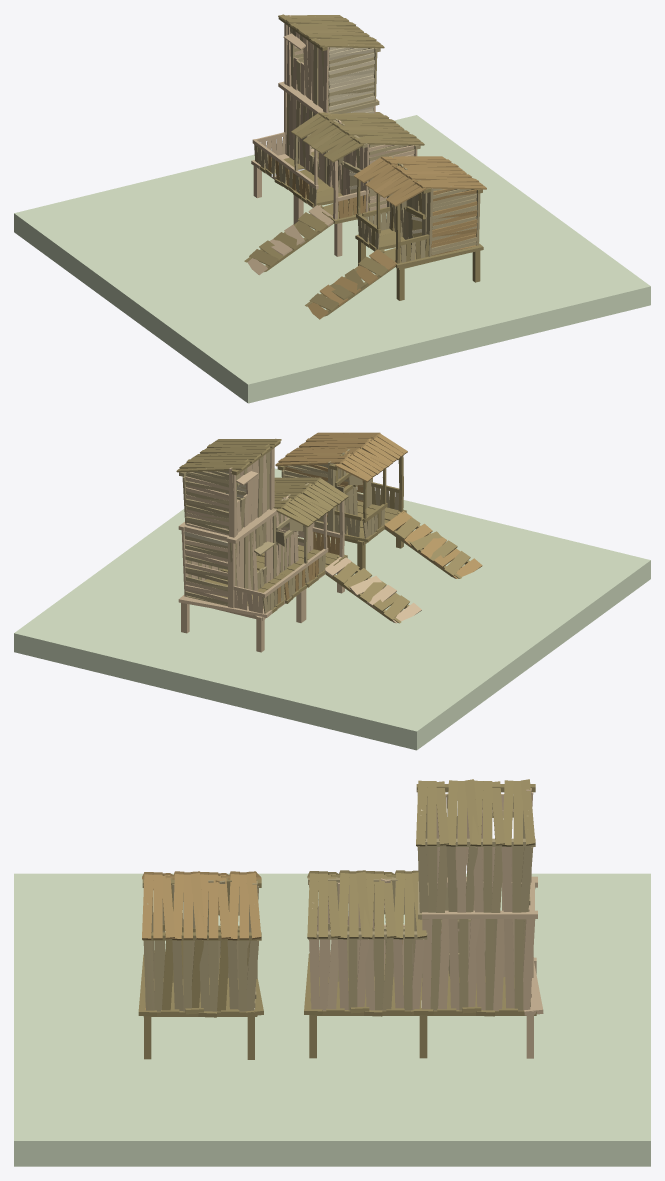
3 renders of one model, top to bottom at view 1: azimuth 30°, elevation 25°; view 2: azimuth 150°, elevation 25°; view 3: azimuth 270°, elevation 25°, orthographic. The views are drawn at different scales.
Parts seen in each view (by area): view 1: GROUND, 2_5_0, 2_3_0, 1_4_0, 2_2_0, 1_5_0, 1_2_0, 2_1_0, 2_4_0; view 2: GROUND, 2_3_0, 2_5_0, 2_2_0, 1_4_0, 1_5_0, 1_2_0, 2_4_0; view 3: GROUND, 2_5_0, 2_3_0, 2_2_0, 1_4_0, 1_2_0, 1_5_0.
Boxes of the visible parts, x1,y1,x2,y2 form: GROUND: (14,115,650,403); 2_5_0: (244,14,424,271); 2_3_0: (247,15,417,275); 1_4_0: (308,156,486,319); 2_2_0: (254,16,420,207); 1_5_0: (305,156,483,316); 1_2_0: (357,156,480,262); 2_1_0: (328,45,375,189); 2_4_0: (268,155,368,218); GROUND: (14,468,650,750); 2_3_0: (178,448,421,652); 2_5_0: (176,438,409,623); 2_2_0: (179,451,325,613); 1_4_0: (275,432,482,578); 1_5_0: (277,448,470,578); 1_2_0: (281,433,398,538); 2_4_0: (277,531,339,603); GROUND: (14,873,650,1166); 2_5_0: (304,779,536,1058); 2_3_0: (309,788,543,1058); 2_2_0: (308,793,535,1010); 1_4_0: (142,871,261,1009); 1_2_0: (143,880,258,1011); 1_5_0: (138,878,263,1059).
Bounding box in the file's own units: 4408 × 2046 × 4437.
